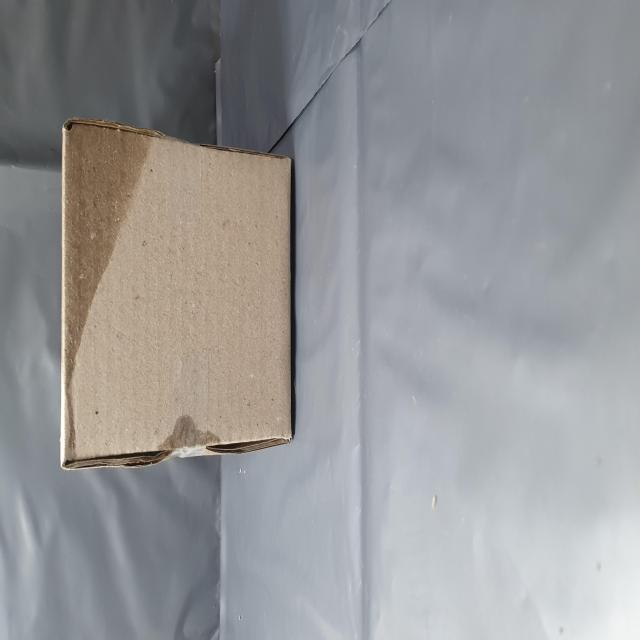wet: (146, 101, 288, 278)
